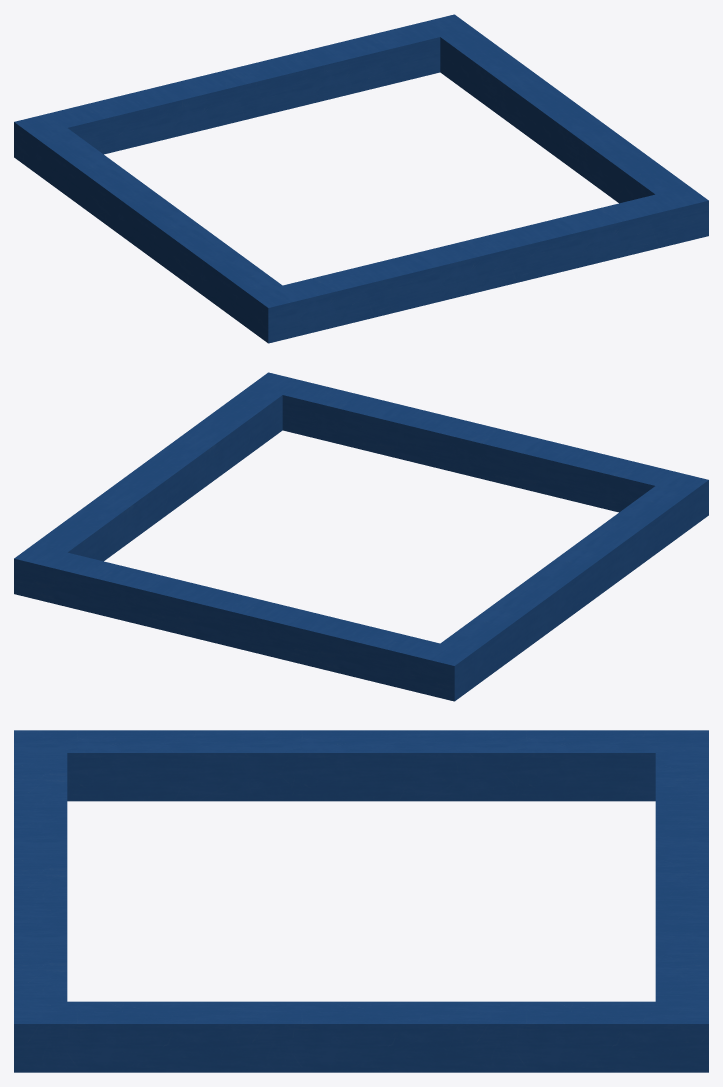
File: BallTower.fbx
3 renders of one model, top to bottom at view 1: azimuth 30°, elevation 25°; view 2: azimuth 150°, elevation 25°; view 3: azimuth 270°, elevation 25°, orthographic. The views are drawn at different scales.
Parts seen in each view (by area): view 1: Cube; view 2: Cube; view 3: Cube.
Boxes of the visible parts, <box> form: Cube: <box>14,14,708,343</box>; Cube: <box>14,372,708,701</box>; Cube: <box>14,730,708,1072</box>.
Bounding box in the file's own units: 2600 × 200 × 2600.
